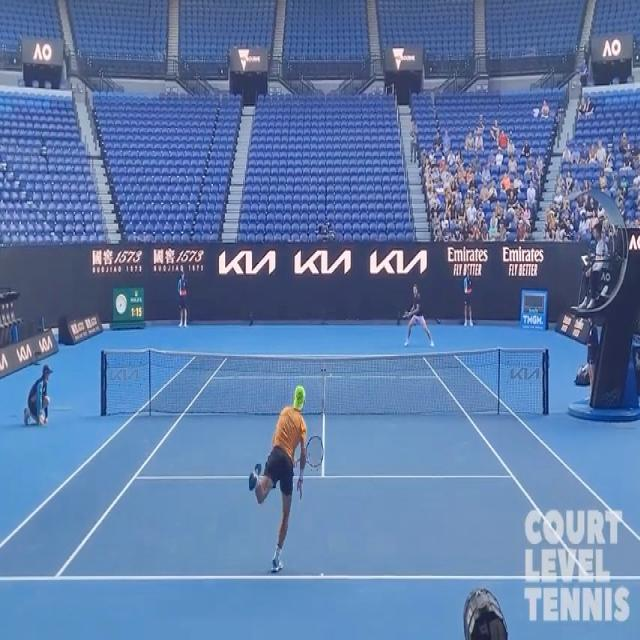serve_followthrough: (235, 376, 328, 589)
